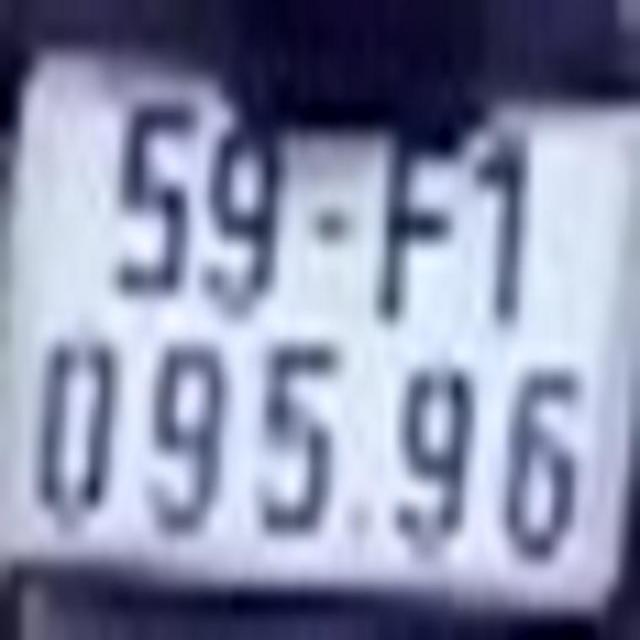0: (34, 333, 113, 532)
1: (474, 113, 539, 320)
5: (110, 93, 196, 300), (252, 342, 337, 540)
6: (498, 359, 593, 560)
9: (201, 112, 282, 319), (390, 354, 470, 556), (148, 340, 224, 543)
F: (380, 108, 465, 324)
